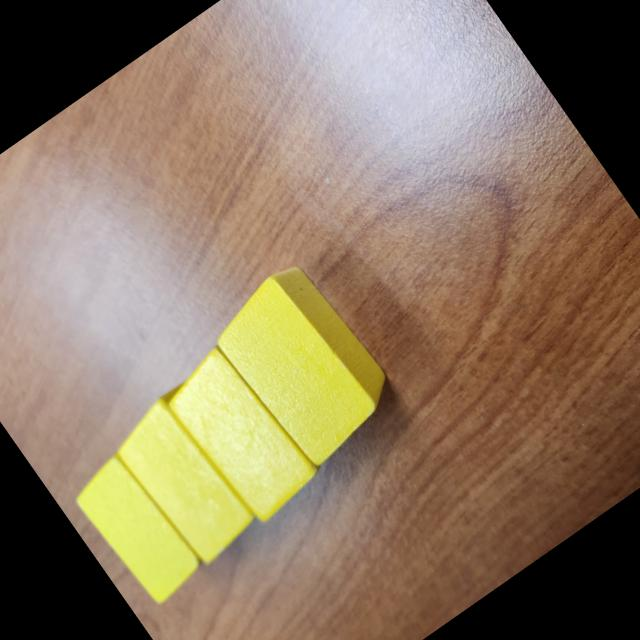yellow: (203, 254, 407, 473), (156, 334, 332, 532), (103, 379, 280, 572), (67, 450, 209, 610)
